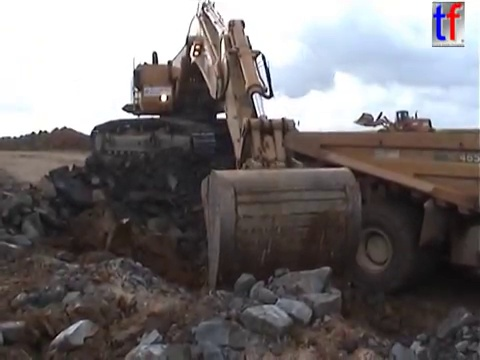excavator: (85, 1, 367, 309)
truck: (280, 127, 480, 298)
wheel loader: (351, 108, 438, 140)
